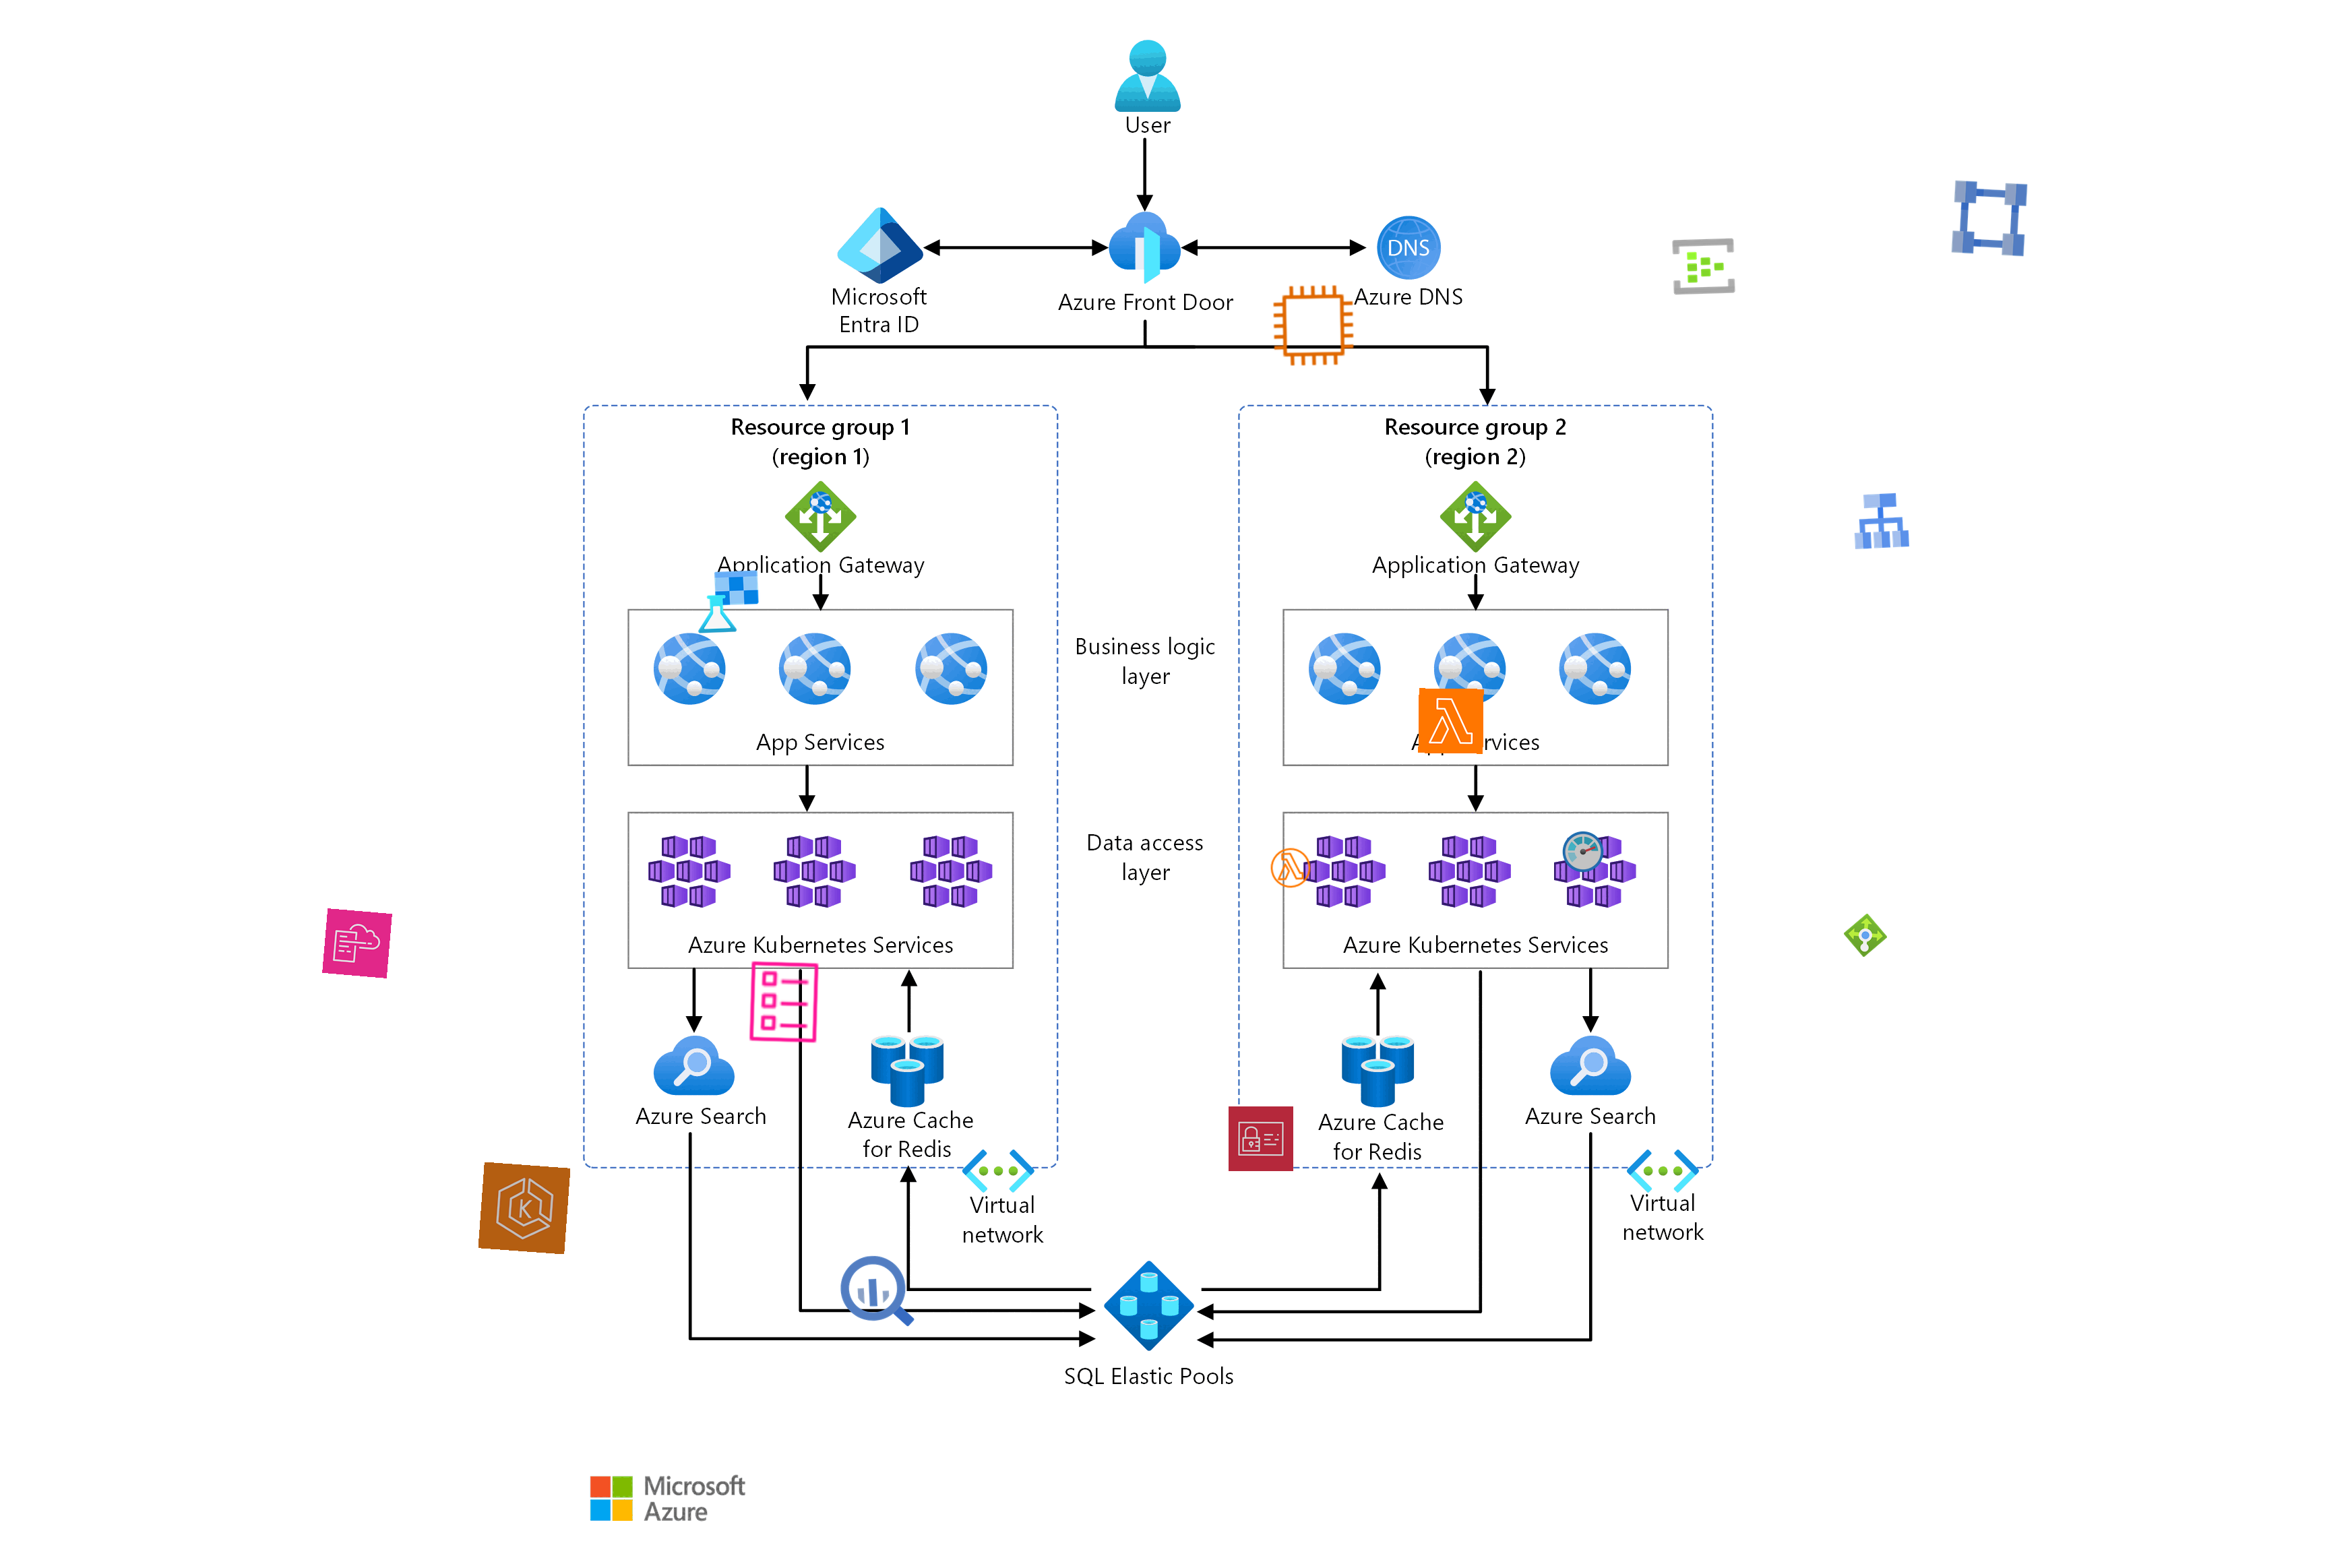aws_amazon_elastic_kubernetes_service: (478, 1162, 570, 1255)
aws_cloudformation: (322, 908, 392, 978)
aws_cloudformation_template: (738, 957, 828, 1046)
aws_ec2_instance: (1269, 282, 1358, 369)
aws_identity_and_access_management: (1228, 1106, 1293, 1172)
aws_lambda: (1418, 688, 1484, 754)
aws_lambda_lambda_function: (1267, 845, 1314, 891)
azure_event_hubs: (1669, 233, 1738, 299)
azure_load_balancers: (1841, 912, 1888, 959)
azure_machine_learning_studio_workspaces: (695, 569, 761, 635)
azure_monitor: (1561, 830, 1605, 873)
gcp_bigquery: (831, 1246, 922, 1337)
gcp_cloud_load_balancing: (1846, 486, 1915, 555)
gcp_virtual_private_cloud: (1944, 173, 2035, 264)
